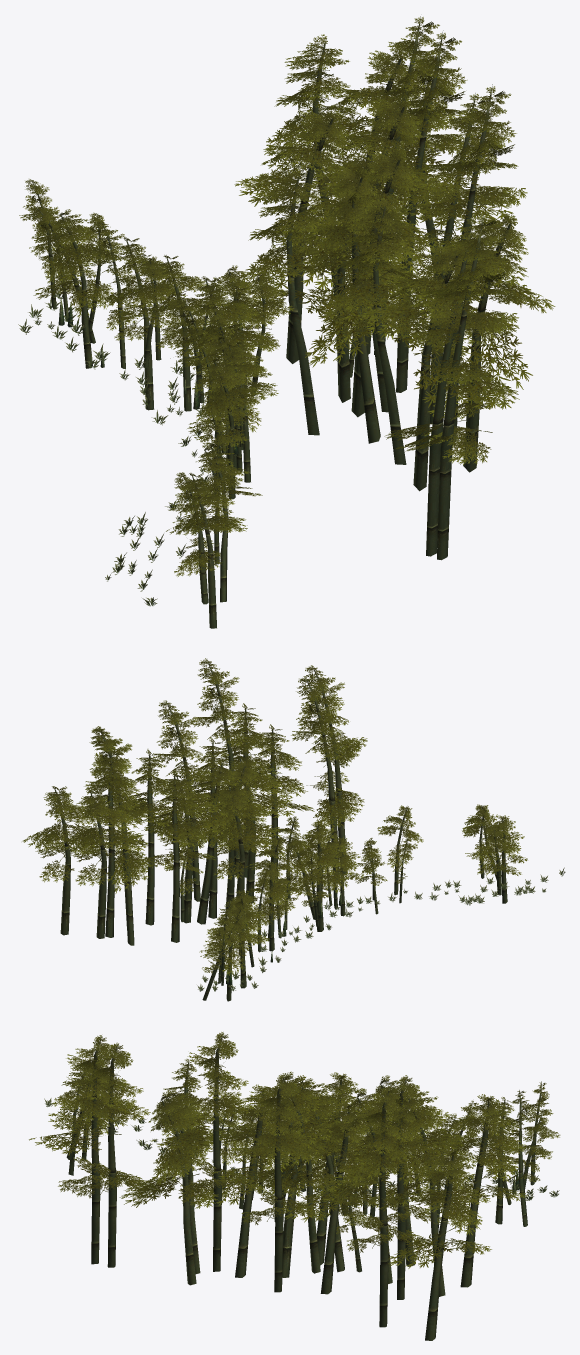
Rendered from Area_10_2.fbx.
3 renders of one model, top to bottom at view 1: azimuth 30°, elevation 25°; view 2: azimuth 150°, elevation 25°; view 3: azimuth 270°, elevation 25°, orthographic. The views are drawn at different scales.
Parts seen in each view (by area): view 1: Area_10_2; view 2: Area_10_2; view 3: Area_10_2.
Boxes of the visible parts, x1,y1,x2,y2 form: Area_10_2: (18,16,555,628); Area_10_2: (22,658,565,1001); Area_10_2: (29,1032,560,1340).
Size of the model in its own units: 4926 by 2967 by 5083.
